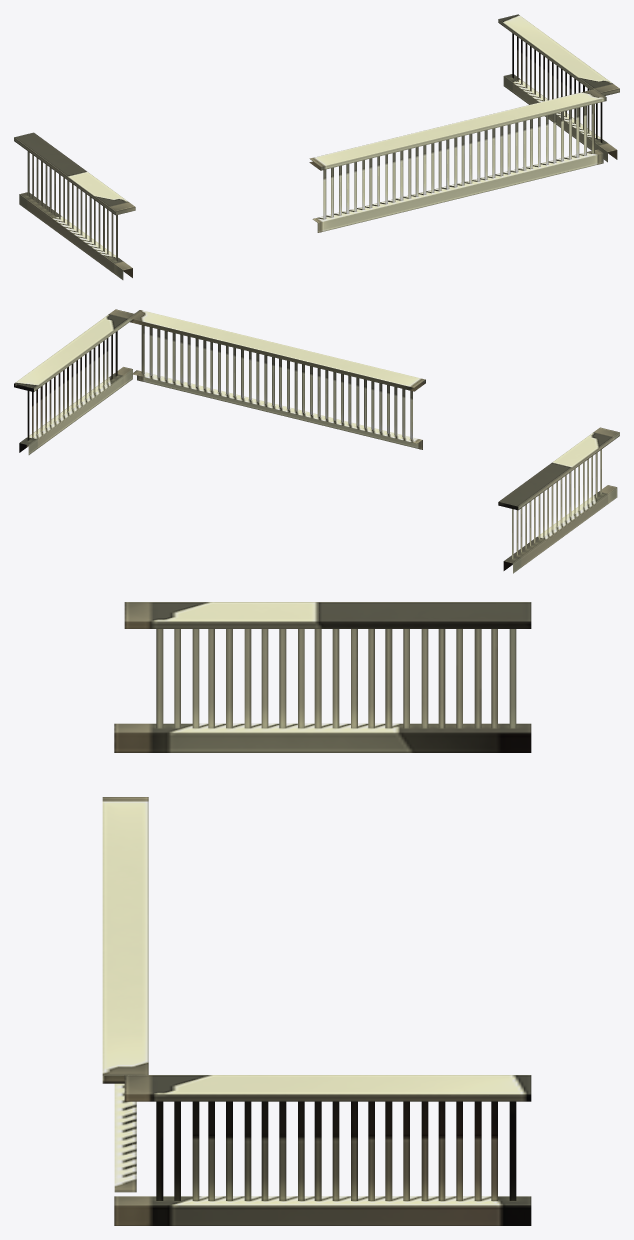
Rendered from porchRails.obj.
3 renders of one model, top to bottom at view 1: azimuth 30°, elevation 25°; view 2: azimuth 150°, elevation 25°; view 3: azimuth 270°, elevation 25°, orthographic. The views are drawn at different scales.
Visible parts, largest first — view 1: porchRails1; view 2: porchRails1; view 3: porchRails1.
Boxes of the visible parts, x1,y1,x2,y2 form: porchRails1: (14,14,619,279); porchRails1: (14,309,619,573); porchRails1: (102,602,531,1225).
Bounding box in the file's own units: 5.64 × 0.7299 × 2.08.
Materials: 1 (1 with a texture image).
